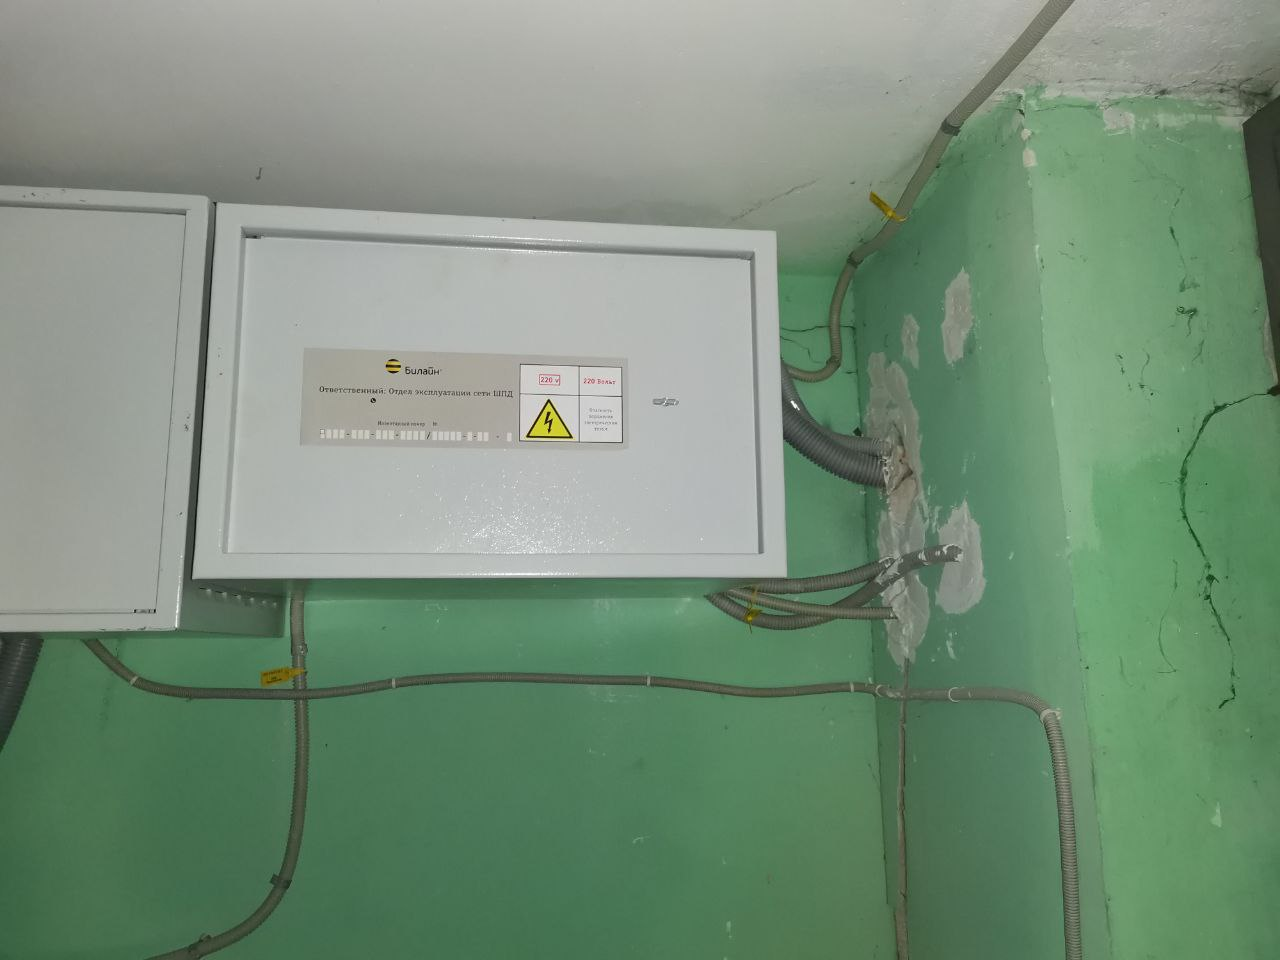shta-7m: (184, 184, 795, 591)
